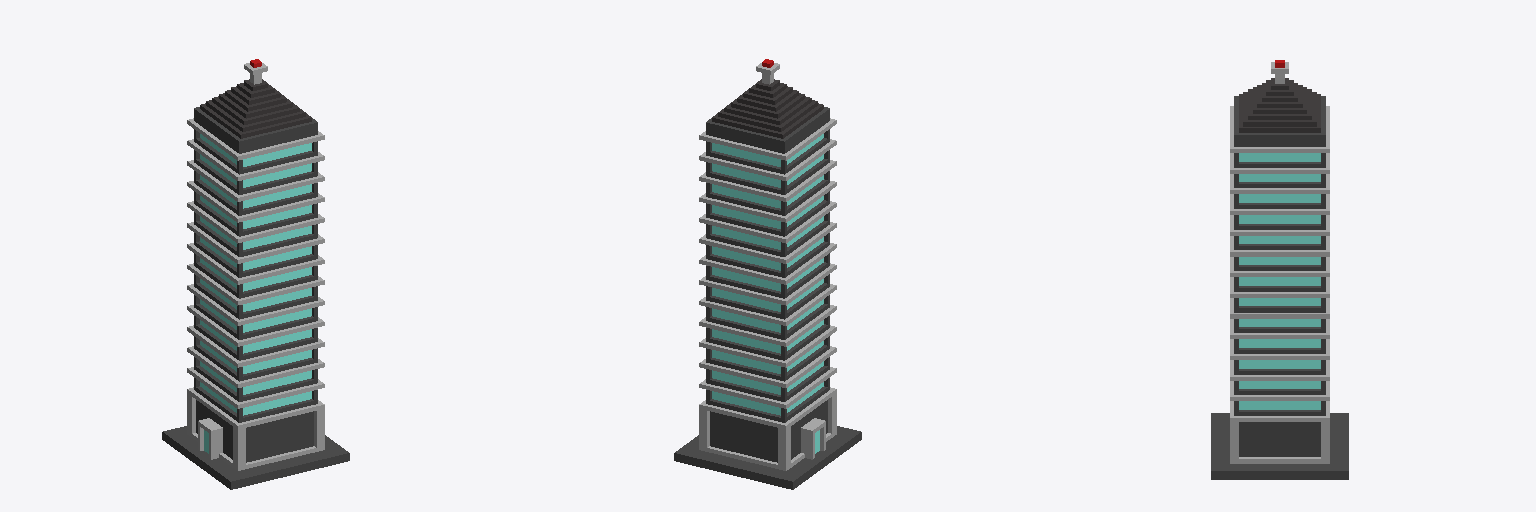
3 renders of one model, left to right at view 1: azimuth 30°, elevation 25°; view 2: azimuth 150°, elevation 25°; view 3: azimuth 270°, elevation 25°, orthographic.
Bounding box in the file's own units: 30 × 94 × 30.
Materials: 1 (1 with a texture image).